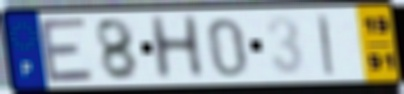0: (204, 15, 253, 78)
3: (265, 14, 306, 78)
8: (94, 16, 140, 82)
E: (36, 15, 98, 86)
H: (146, 13, 208, 83)
I: (315, 12, 335, 77)
